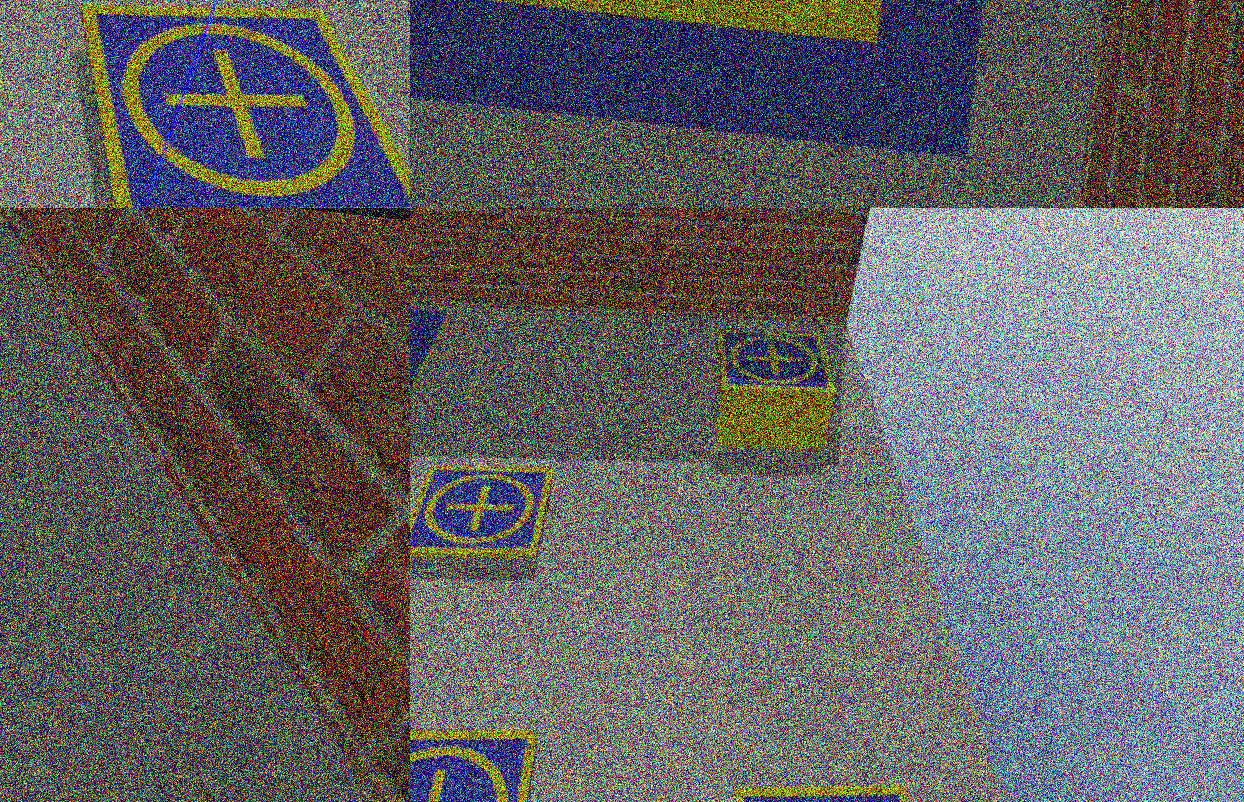large_base: (411, 1, 1029, 165)
small_base: (59, 1, 411, 209), (411, 450, 556, 572), (411, 715, 540, 802), (712, 322, 846, 404), (722, 766, 952, 802)
